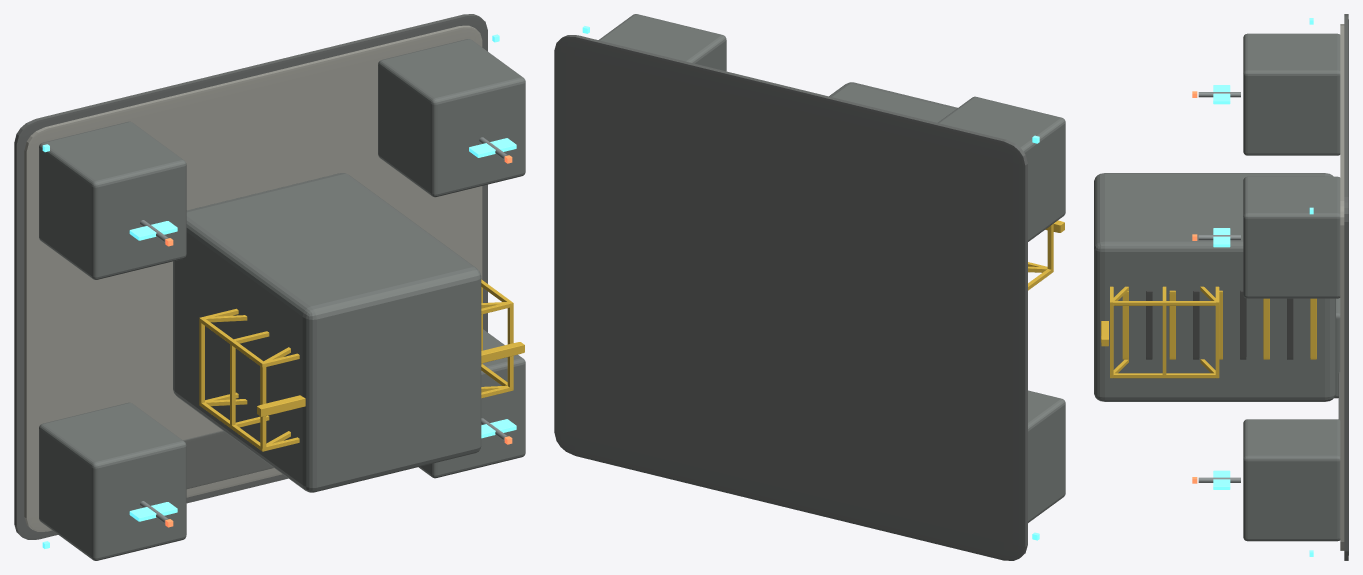
The model's file is b-45-superweapon-lab-lod1.glb.
3 views of the same model, side by side, from view 1: azimuth 30°, elevation 25°; view 2: azimuth 150°, elevation 25°; view 3: azimuth 270°, elevation 25° (orthographic). The views are drawn at different scales.
Visible parts, largest first — view 1: primary_armored_shaft, foundation_inner_pad, strategic_bastion_7.2_5.7, strategic_bastion_-7.2_-5.7, strategic_bastion_-7.2_5.7, foundation, strategic_bastion_7.2_-5.7, strategic_portal_road, upper_crane_bridge; view 2: foundation, strategic_bastion_-7.2_5.7, strategic_bastion_-7.2_-5.7, strategic_bastion_7.2_5.7, primary_armored_shaft; view 3: primary_armored_shaft, strategic_bastion_-7.2_5.7, strategic_bastion_7.2_-5.7, strategic_bastion_7.2_5.7, foundation, foundation_inner_pad, upper_crane_column_e_s, upper_crane_column_e_n, shaft_warning_strip_4.5, strategic_bastion_-7.2_-5.7, shaft_warning_strip_6.5, shaft_warning_strip_7.5 (+10 smaller).
Part boxes in pixels (x1,y1,x2,y2): primary_armored_shaft: [173, 173, 481, 492]; foundation_inner_pad: [24, 25, 482, 531]; strategic_bastion_7.2_5.7: [378, 39, 525, 197]; strategic_bastion_-7.2_-5.7: [39, 402, 186, 560]; strategic_bastion_-7.2_5.7: [39, 121, 186, 279]; foundation: [14, 14, 487, 539]; strategic_bastion_7.2_-5.7: [418, 329, 525, 478]; strategic_portal_road: [183, 430, 273, 488]; upper_crane_bridge: [257, 342, 524, 416]; foundation: [554, 35, 1027, 560]; strategic_bastion_-7.2_5.7: [938, 96, 1065, 241]; strategic_bastion_-7.2_-5.7: [1028, 390, 1065, 522]; strategic_bastion_7.2_5.7: [598, 14, 726, 71]; primary_armored_shaft: [829, 82, 957, 122]; primary_armored_shaft: [1094, 173, 1335, 401]; strategic_bastion_-7.2_5.7: [1243, 33, 1340, 155]; strategic_bastion_7.2_-5.7: [1243, 419, 1340, 541]; strategic_bastion_7.2_5.7: [1243, 176, 1340, 298]; foundation: [1344, 14, 1348, 560]; foundation_inner_pad: [1340, 24, 1344, 550]; upper_crane_column_e_s: [1113, 373, 1215, 378]; upper_crane_column_e_n: [1113, 301, 1215, 305]; shaft_warning_strip_4.5: [1240, 290, 1246, 359]; strategic_bastion_-7.2_-5.7: [1334, 298, 1340, 398]; shaft_warning_strip_6.5: [1193, 290, 1199, 359]; shaft_warning_strip_7.5: [1169, 290, 1175, 359].
Size of what is drawn, in the model's own units: 20 by 17 by 10.85.
